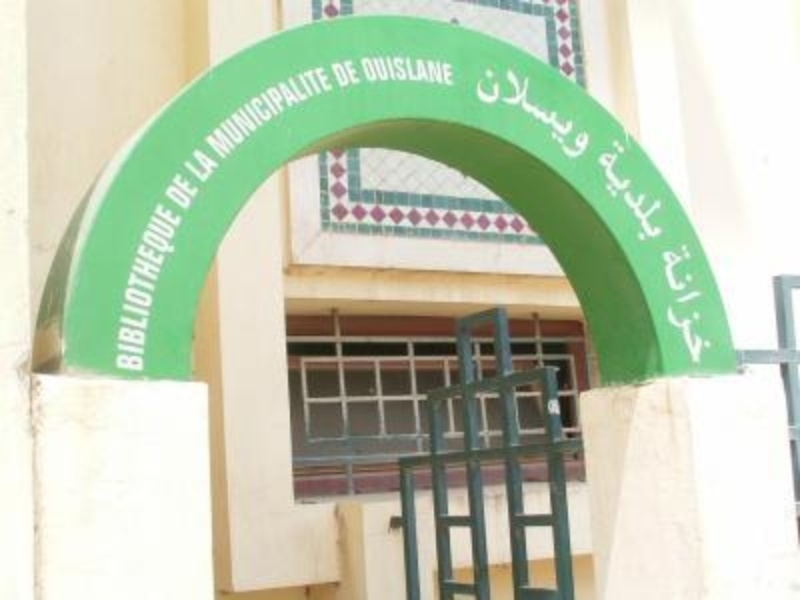text: (161, 193, 176, 373), (147, 193, 160, 373), (657, 235, 672, 369), (673, 235, 688, 369), (689, 235, 704, 369), (705, 235, 720, 369), (177, 193, 187, 373), (625, 135, 640, 253), (641, 135, 656, 253), (657, 135, 672, 253), (497, 49, 512, 167), (513, 49, 528, 167), (529, 49, 544, 167), (545, 49, 560, 167), (561, 49, 576, 167), (577, 49, 592, 167), (321, 61, 337, 167), (209, 61, 224, 167), (225, 61, 240, 167), (241, 61, 256, 167), (257, 61, 272, 167), (273, 61, 288, 167), (289, 61, 304, 167), (305, 61, 320, 167), (593, 49, 605, 167), (195, 61, 208, 167), (673, 135, 683, 253), (615, 135, 624, 253), (489, 49, 496, 167), (651, 235, 656, 369), (177, 171, 192, 215), (209, 143, 223, 185), (369, 51, 384, 89), (385, 51, 400, 89), (401, 51, 416, 89), (417, 51, 432, 89), (433, 51, 448, 89), (337, 55, 352, 89), (357, 51, 368, 89), (199, 143, 208, 185), (193, 171, 201, 215), (353, 55, 361, 89), (721, 235, 723, 369), (449, 51, 455, 89), (331, 55, 336, 89)
